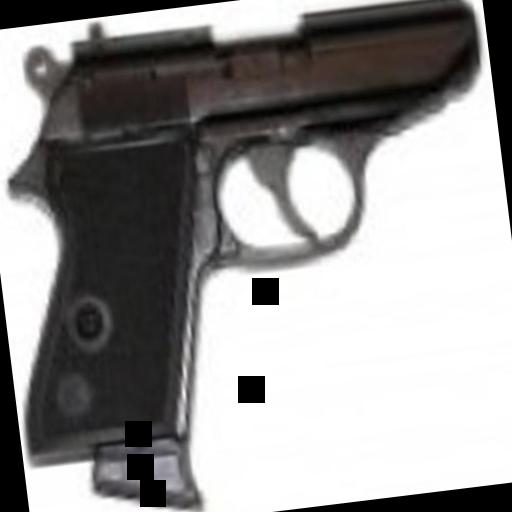Handgun: (0, 0, 512, 486)
